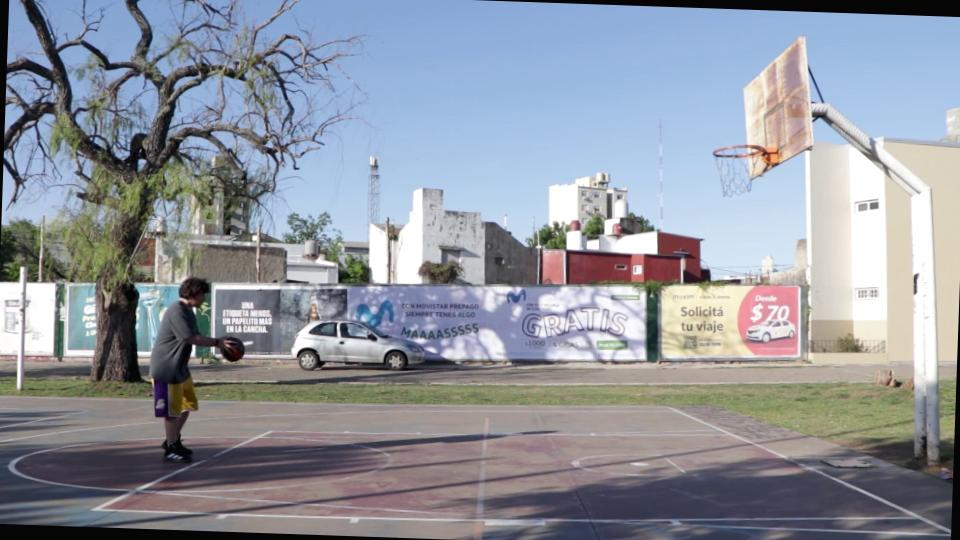hoop: (711, 142, 769, 160)
